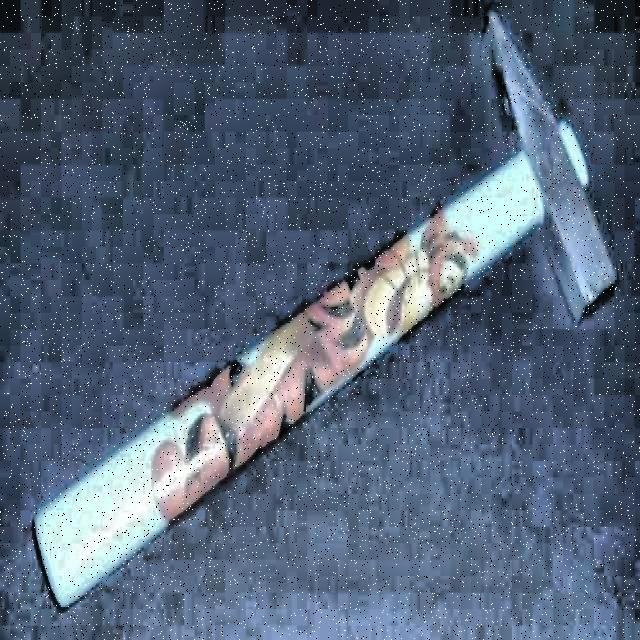hammer: (24, 11, 622, 615)
